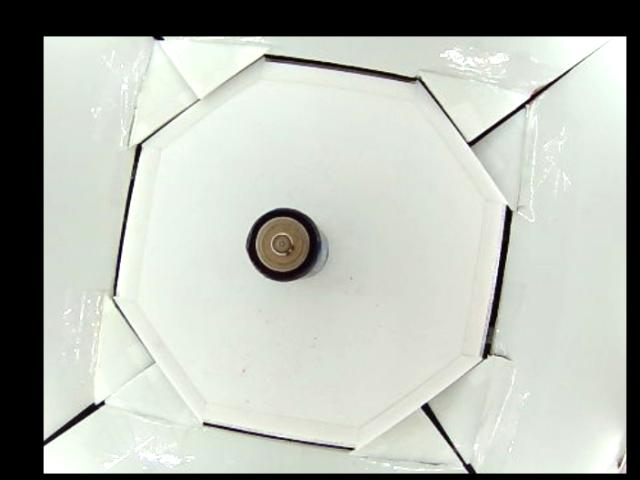Battery: (243, 209, 329, 282)
